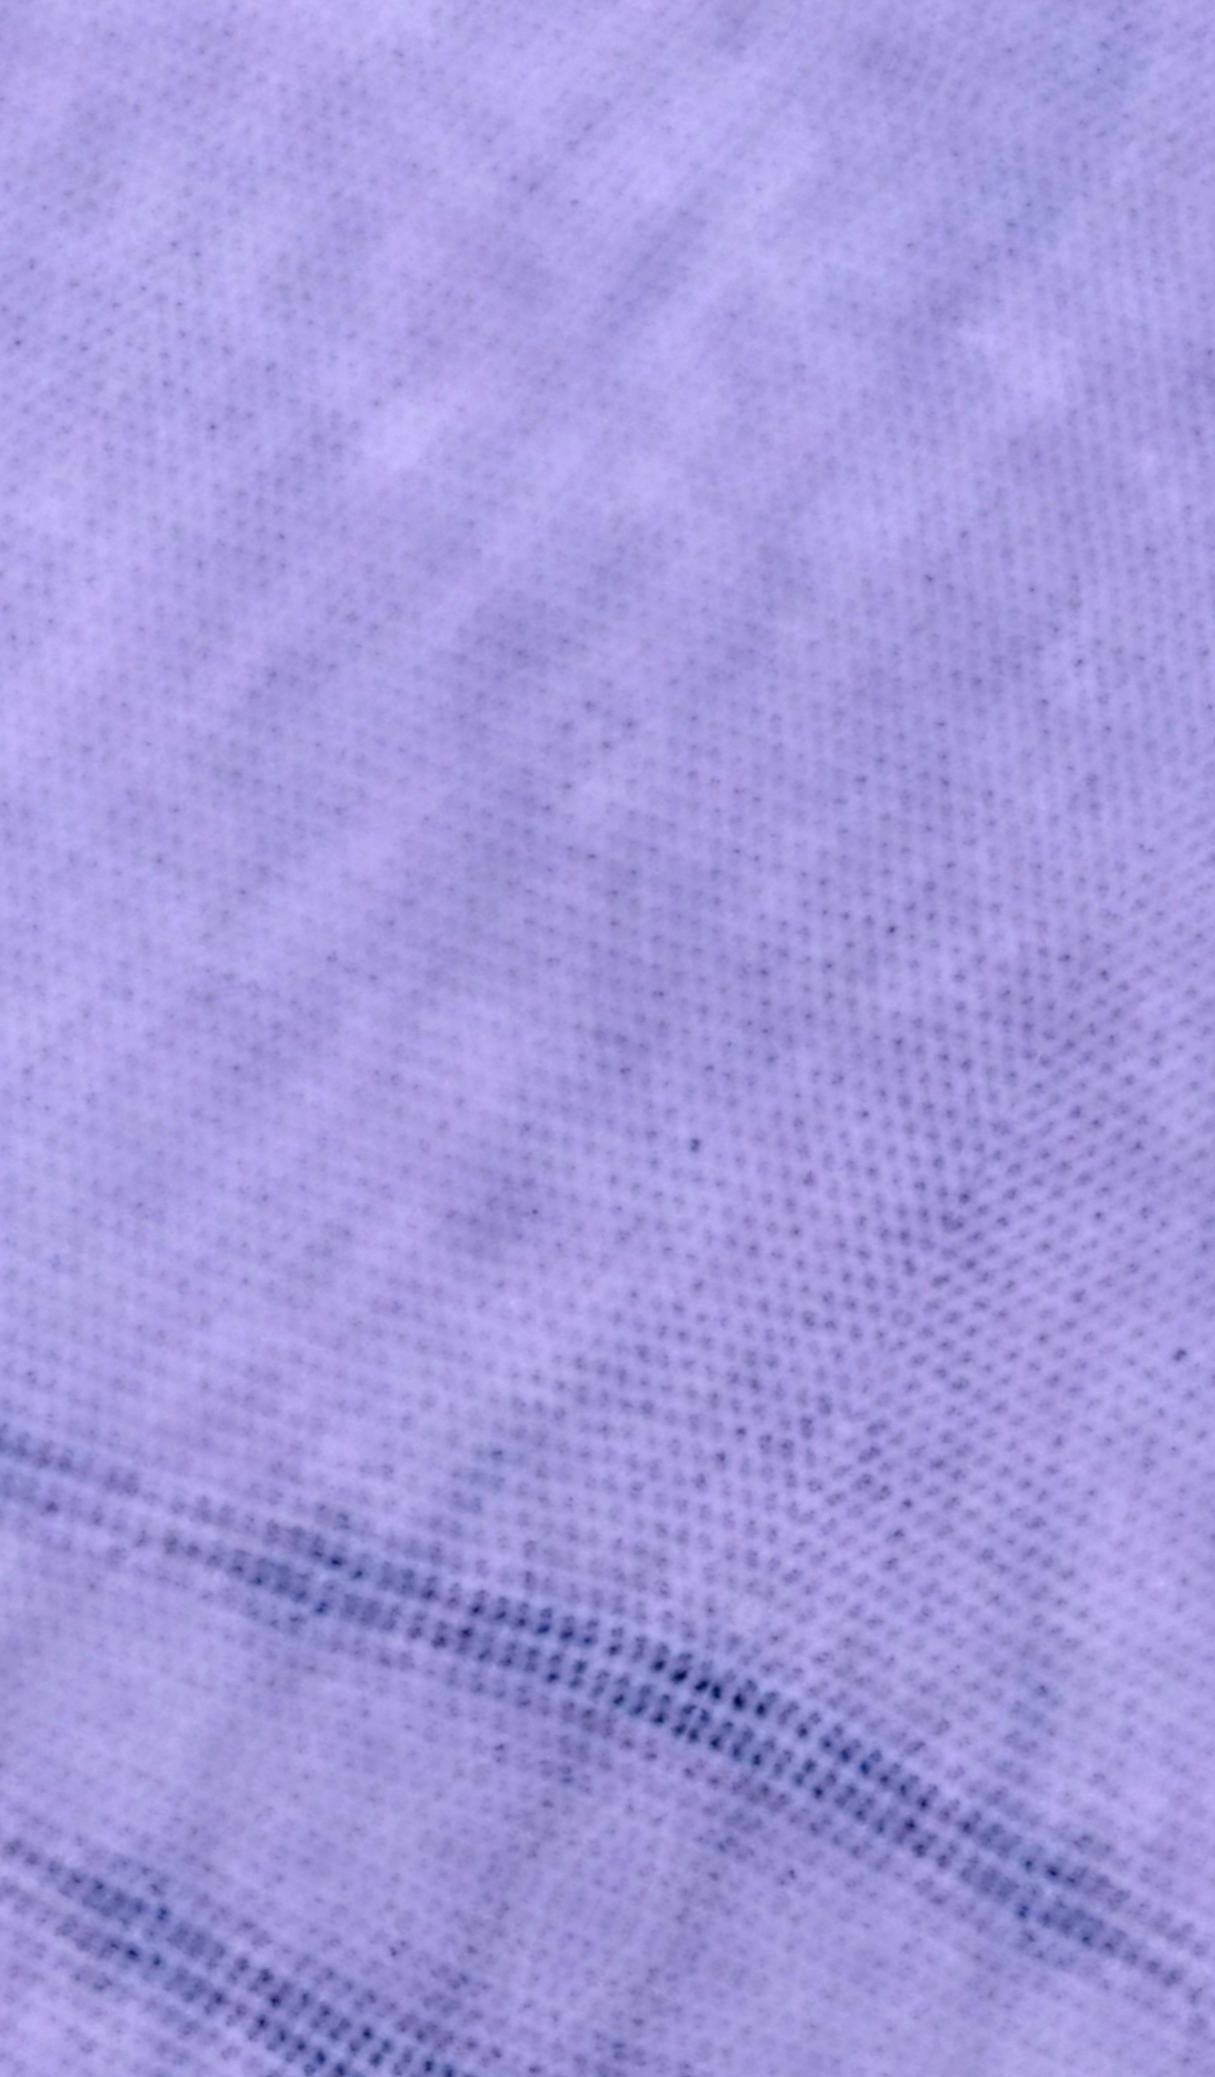slub: (7, 1404, 1215, 2042), (7, 1840, 470, 2068)
